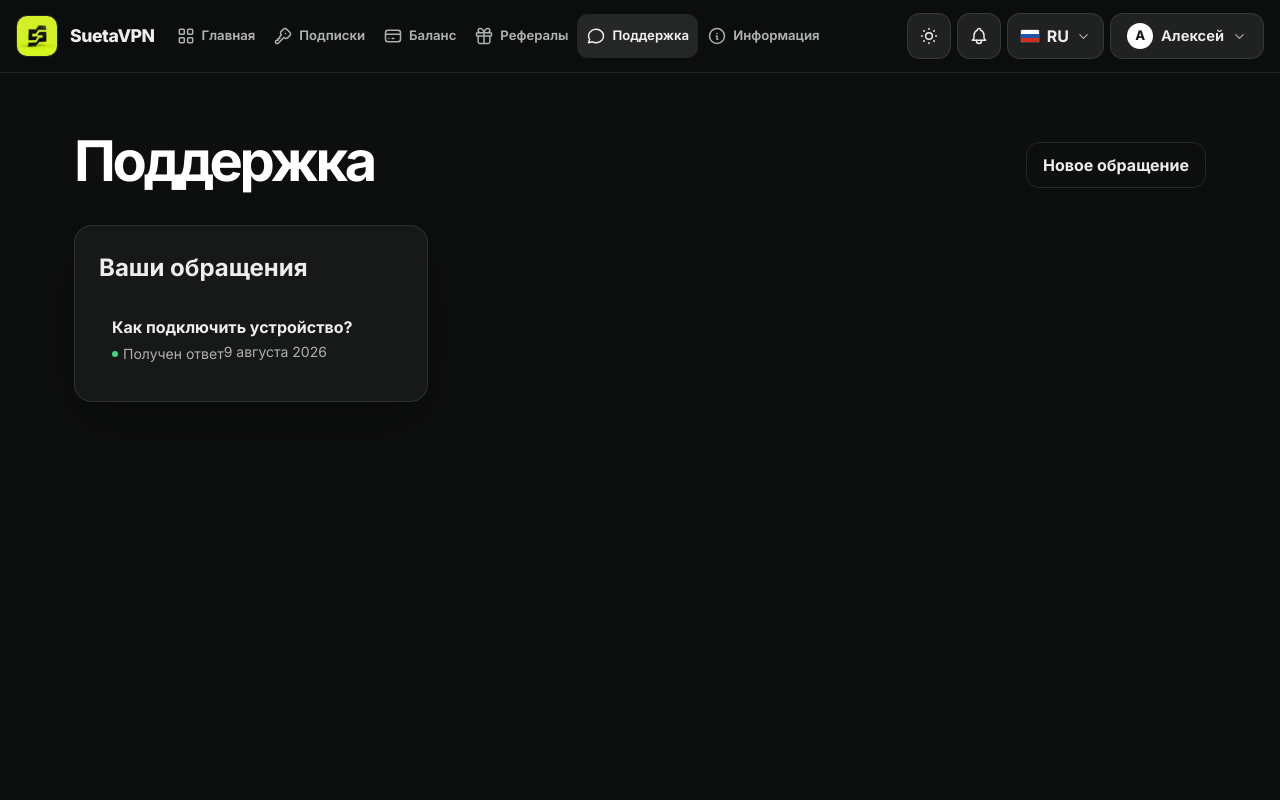
поддержка на телефоне › по тапу показывает переписку и прячет список
Step 1. Click the button "Как подключить устройство?" → (251, 339), box top-left (99, 302), bottom-right (403, 377)
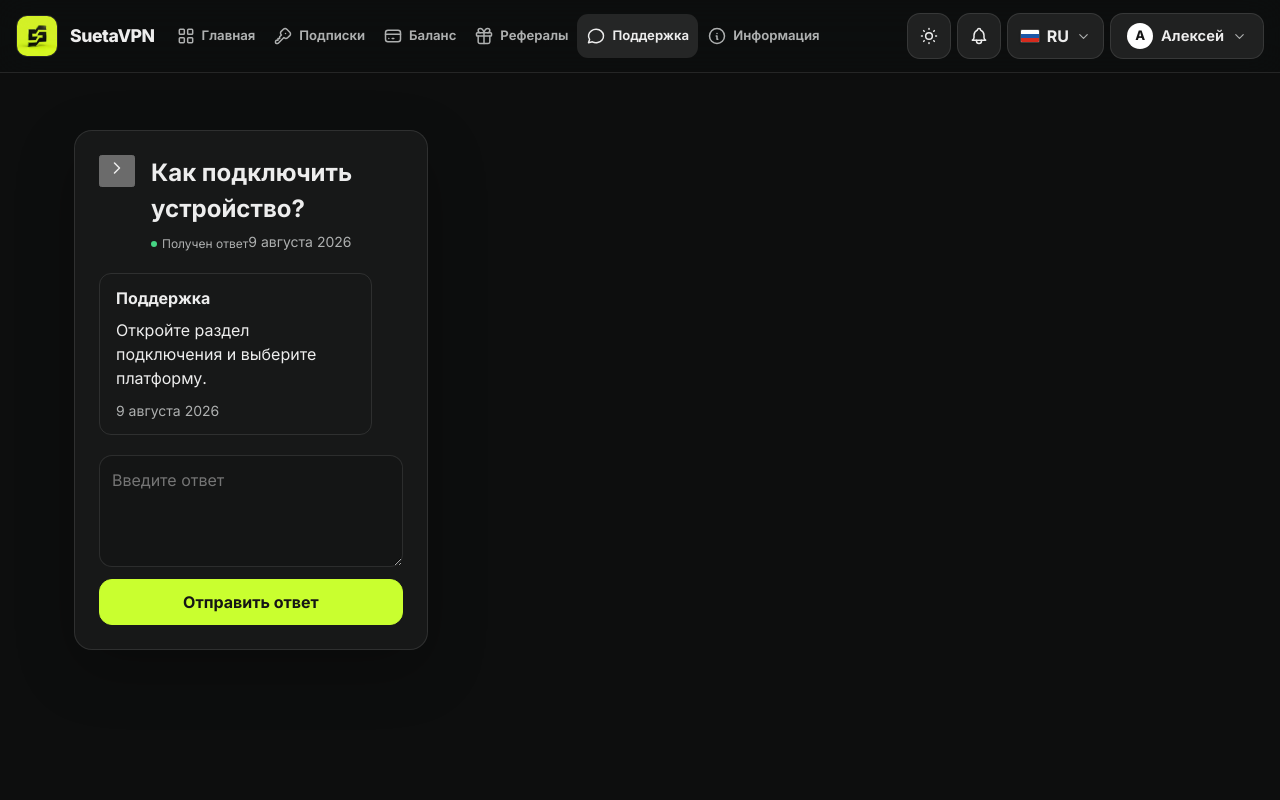
Expected: the list named "Переписка по обращению" is shown, top-left (99, 273), bottom-right (403, 435)
